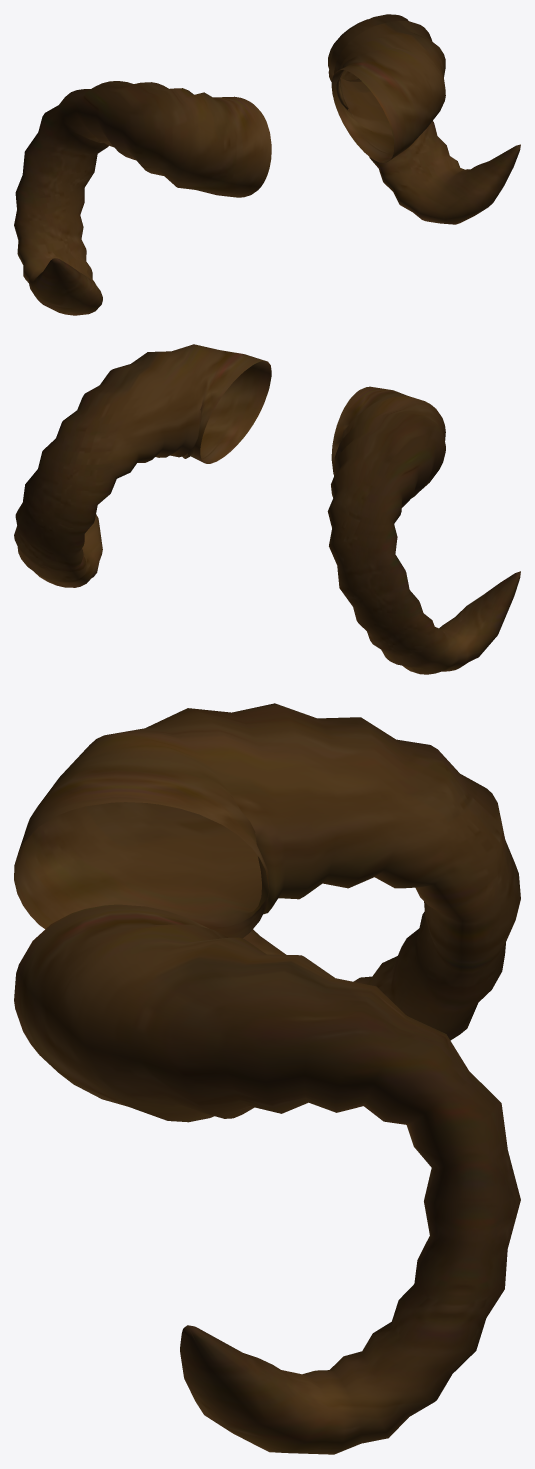
File: faunhorns-lite.glb
3 renders of one model, top to bottom at view 1: azimuth 30°, elevation 25°; view 2: azimuth 150°, elevation 25°; view 3: azimuth 270°, elevation 25°, orthographic. The views are drawn at different scales.
Visible parts, largest first — view 1: faunhorns; view 2: faunhorns; view 3: faunhorns.
Part boxes in pixels (x1=…): faunhorns: x1=14, y1=14, x2=520, y2=315; faunhorns: x1=14, y1=344, x2=520, y2=674; faunhorns: x1=14, y1=703, x2=520, y2=1454.
Bounding box in the file's own units: 0.3392 × 0.1522 × 0.1599.
1 material, 1 textured.
